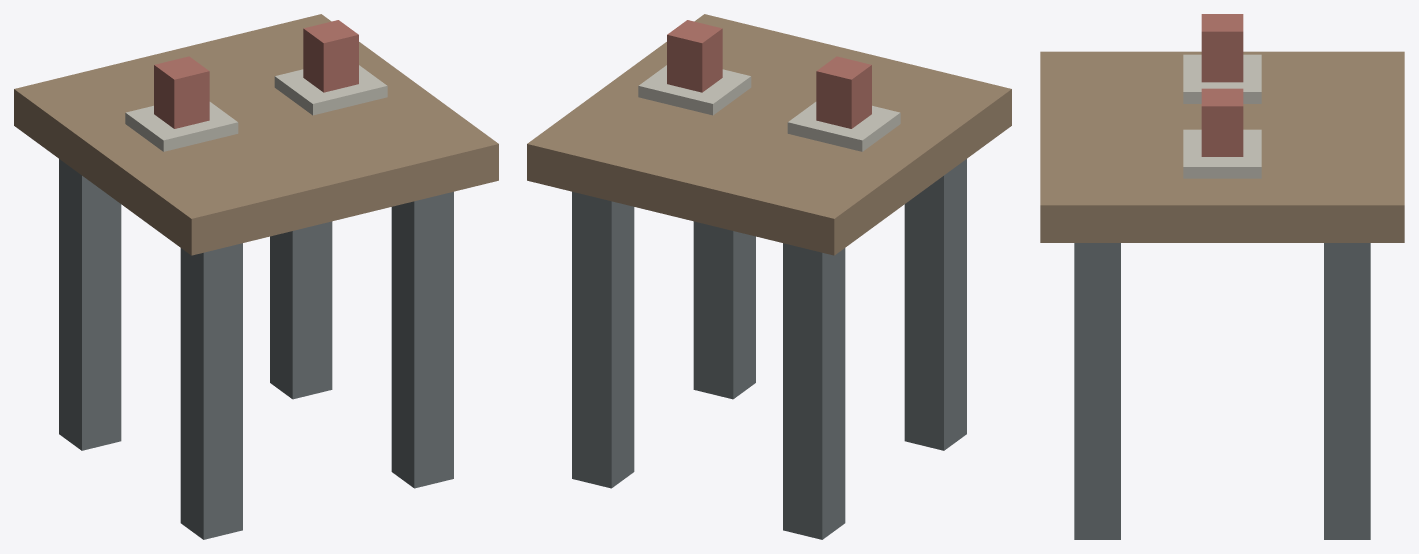
Rendered from tea_table.glb.
3 renders of one model, left to right at view 1: azimuth 30°, elevation 25°; view 2: azimuth 150°, elevation 25°; view 3: azimuth 270°, elevation 25°, orthographic. The views are drawn at different scales.
Visible parts, largest first — view 1: body; view 2: body; view 3: body.
Part boxes in pixels (x1,y1,x2,y2): body: [14, 14, 498, 539]; body: [527, 14, 1011, 539]; body: [1040, 14, 1404, 539].
Bounding box in the file's own units: 0.7 × 0.885 × 0.7.
